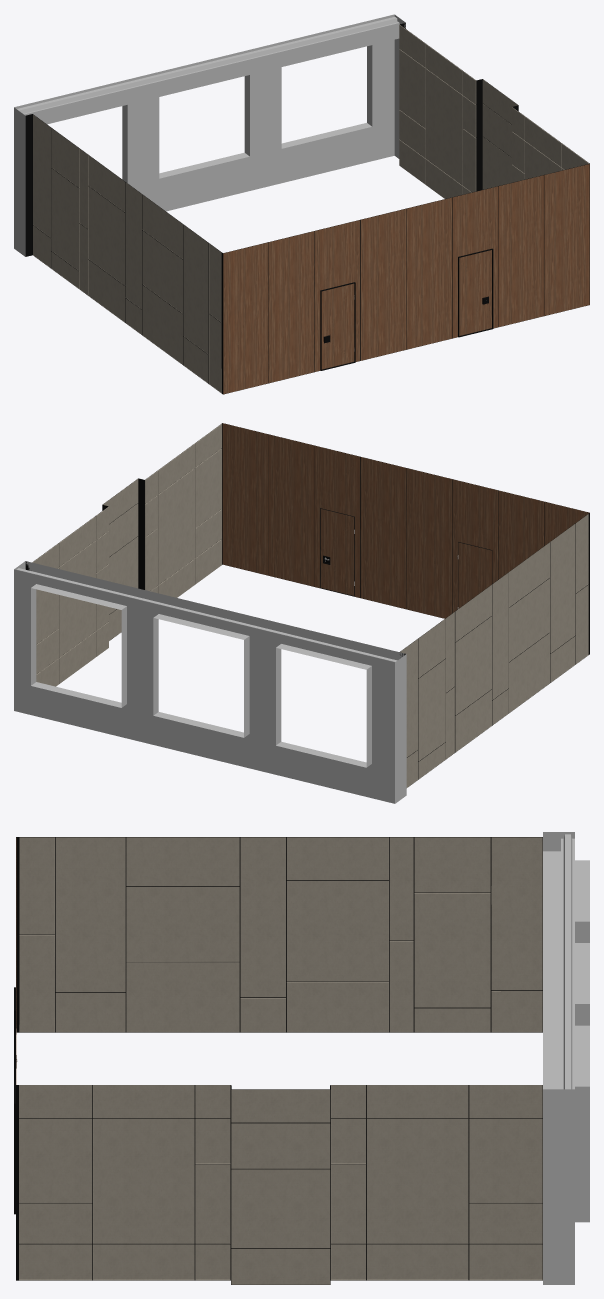
Rendered from CR02_Wall.FBX.
3 views of the same model, one above another, from view 1: azimuth 30°, elevation 25°; view 2: azimuth 150°, elevation 25°; view 3: azimuth 270°, elevation 25° (orthographic). The views are drawn at different scales.
Visible parts, largest first — view 1: CR02_Wall; view 2: CR02_Wall; view 3: CR02_Wall.
Boxes of the visible parts, left/top/right/bottom form: CR02_Wall: left=14, top=14, right=589, bottom=394; CR02_Wall: left=14, top=423, right=589, bottom=803; CR02_Wall: left=14, top=832, right=589, bottom=1284.
Bounding box in the file's own units: 13269 × 4709 × 12560.
